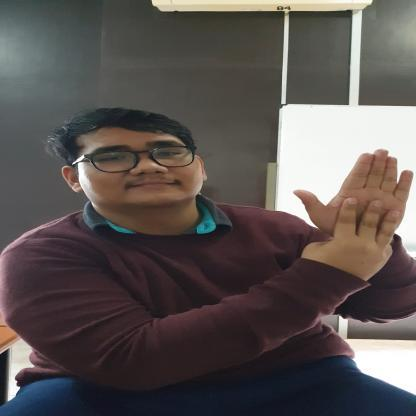M: (291, 148, 416, 264)
